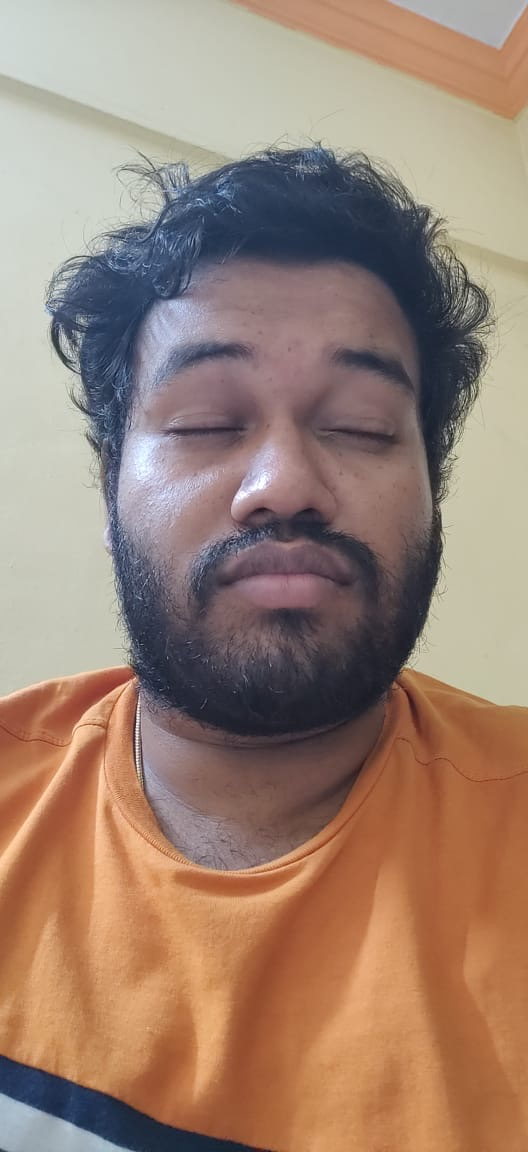Sleeping: (146, 379, 414, 468)
